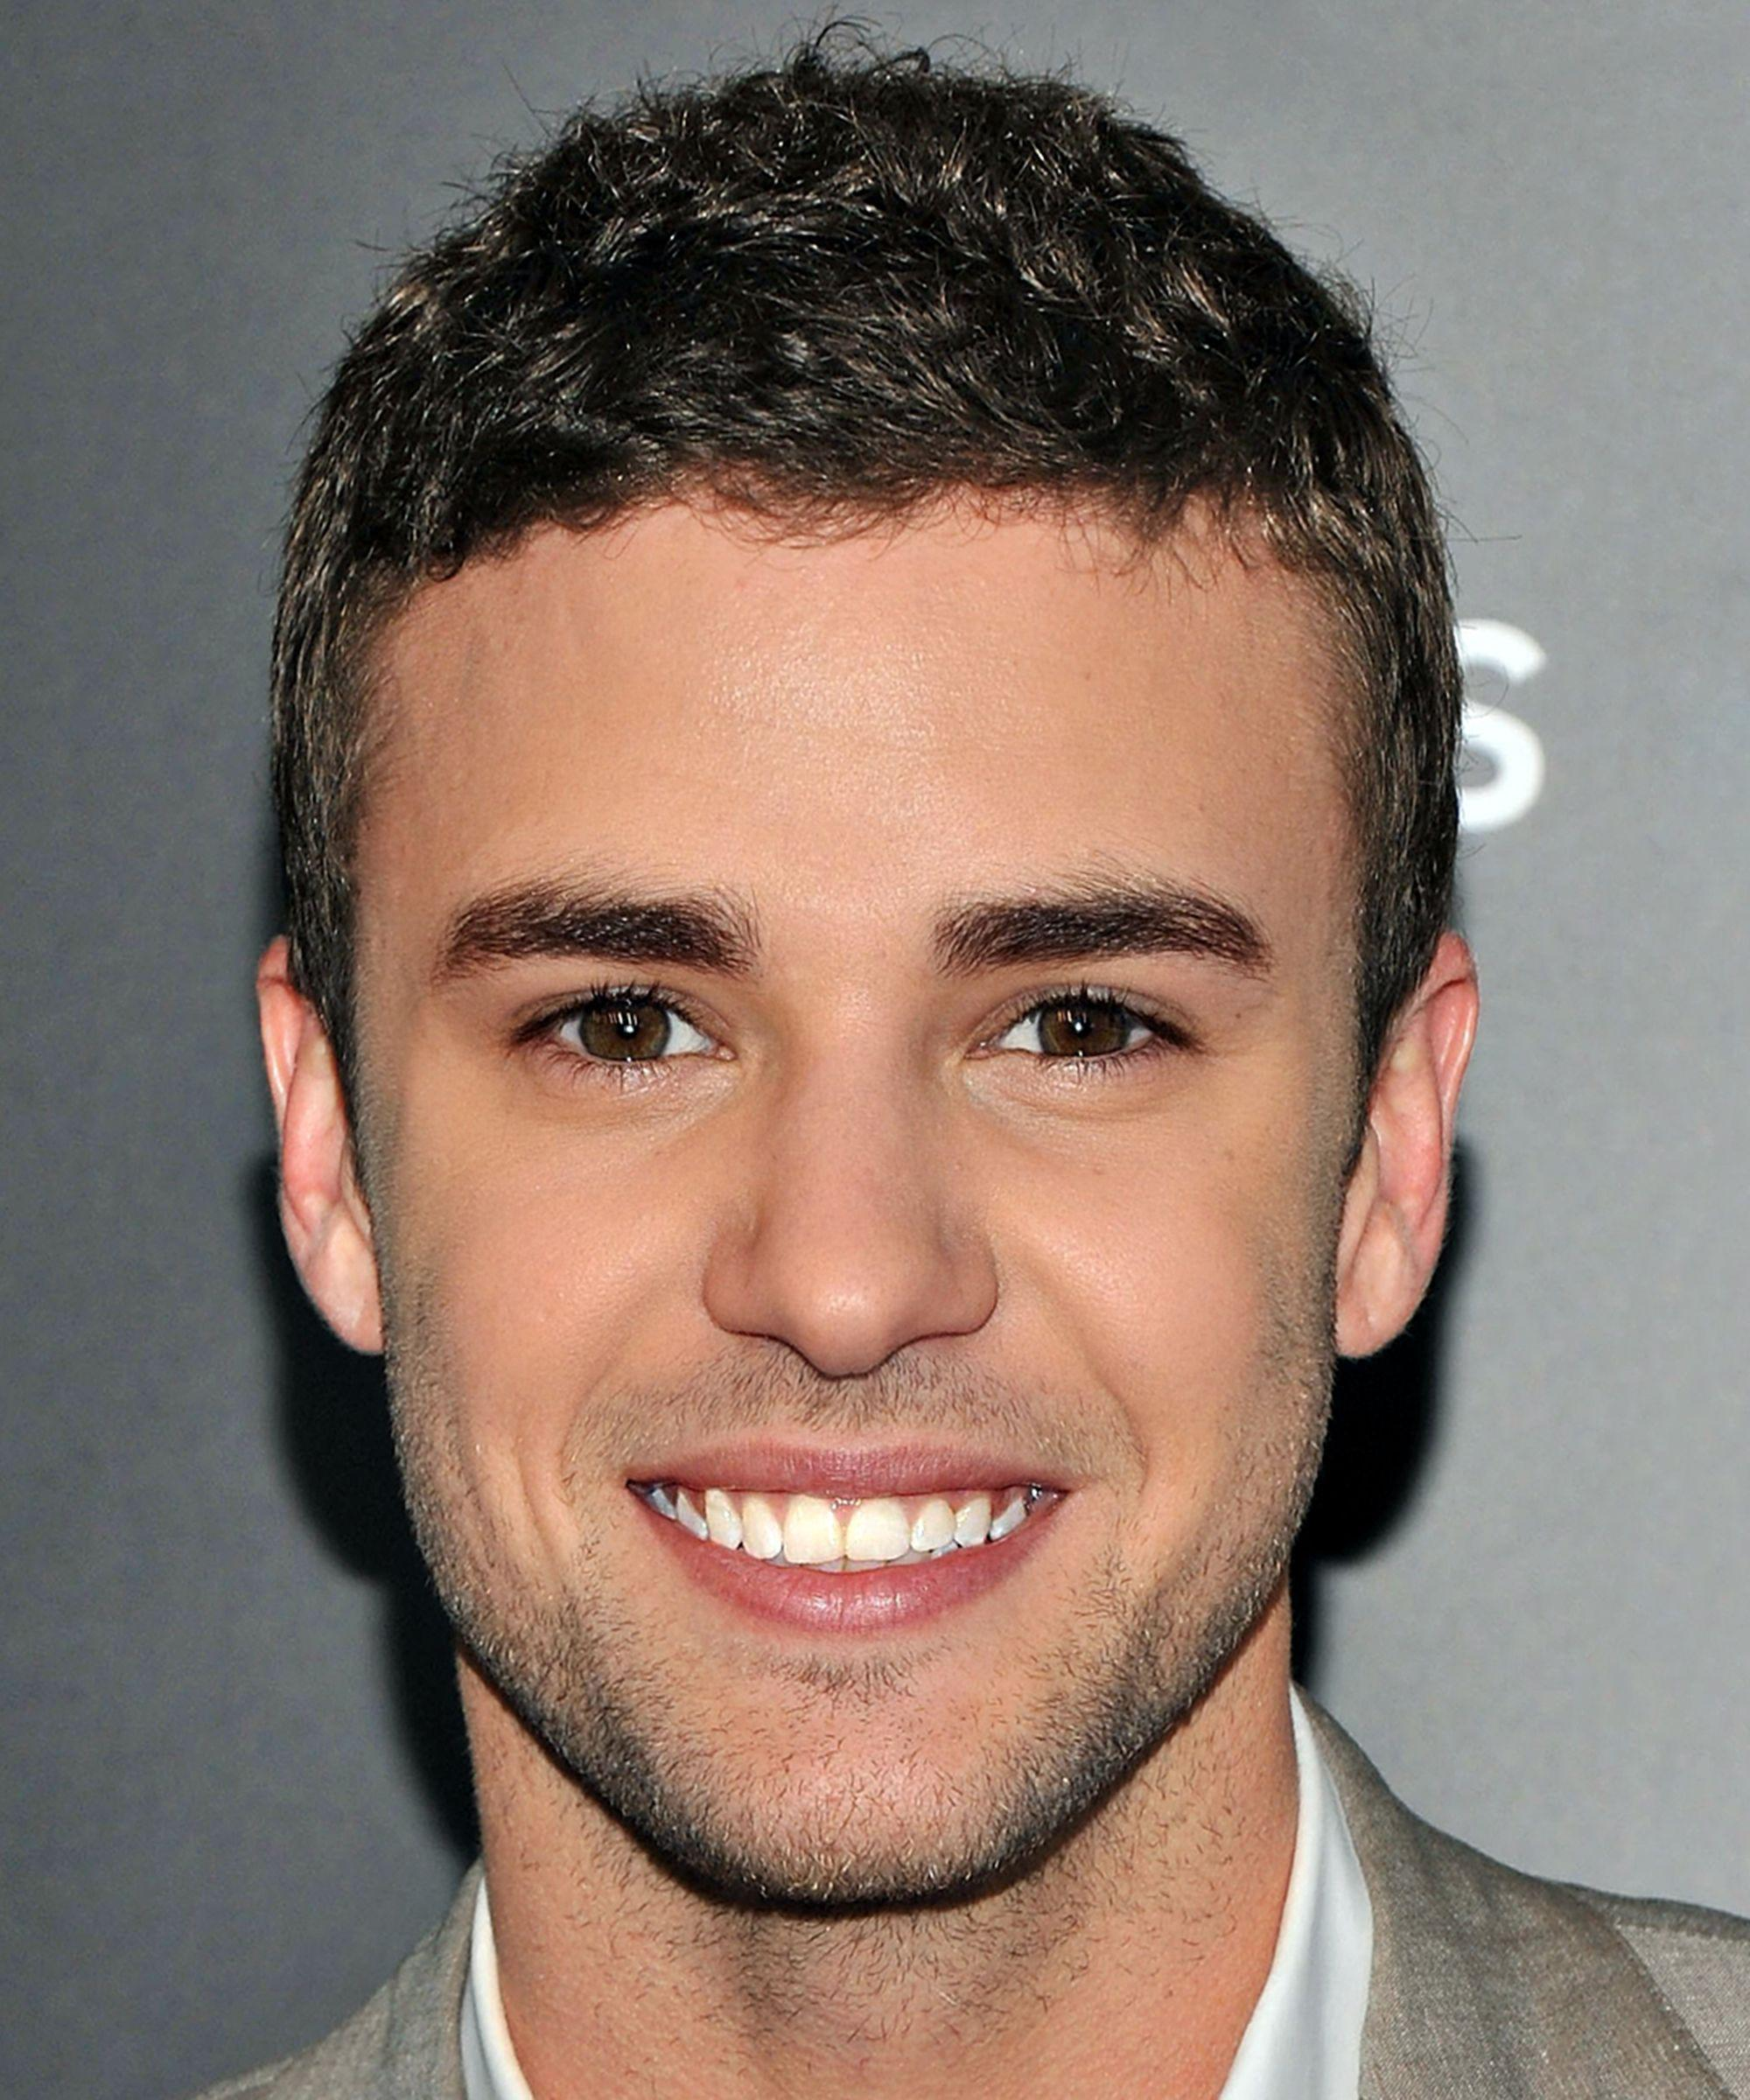Sober: (396, 548, 1331, 1755)
